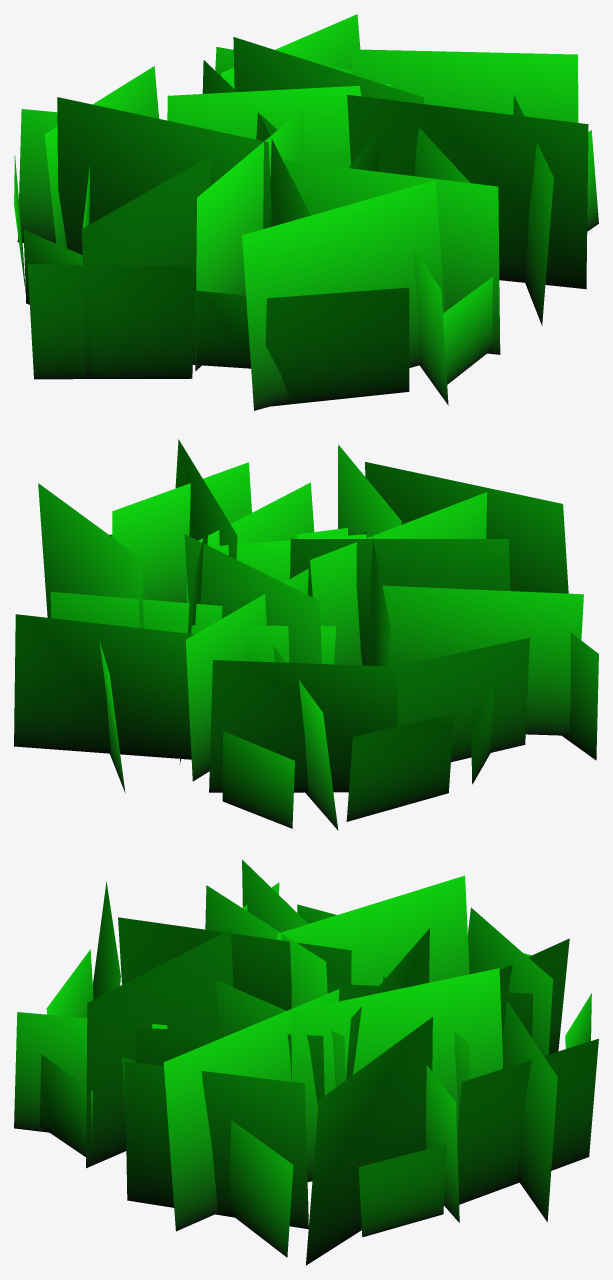
The model's file is Grass_Size09.fbx.
3 renders of one model, top to bottom at view 1: azimuth 30°, elevation 25°; view 2: azimuth 150°, elevation 25°; view 3: azimuth 270°, elevation 25°, orthographic. The views are drawn at different scales.
Parts seen in each view (by area): view 1: PP_grass_04; view 2: PP_grass_04; view 3: PP_grass_04.
Boxes of the visible parts, x1=… form: PP_grass_04: x1=14, y1=14, x2=598, y2=410; PP_grass_04: x1=14, y1=439, x2=598, y2=830; PP_grass_04: x1=14, y1=859, x2=598, y2=1265.
Bounding box in the file's own units: 135 × 41.48 × 121.
